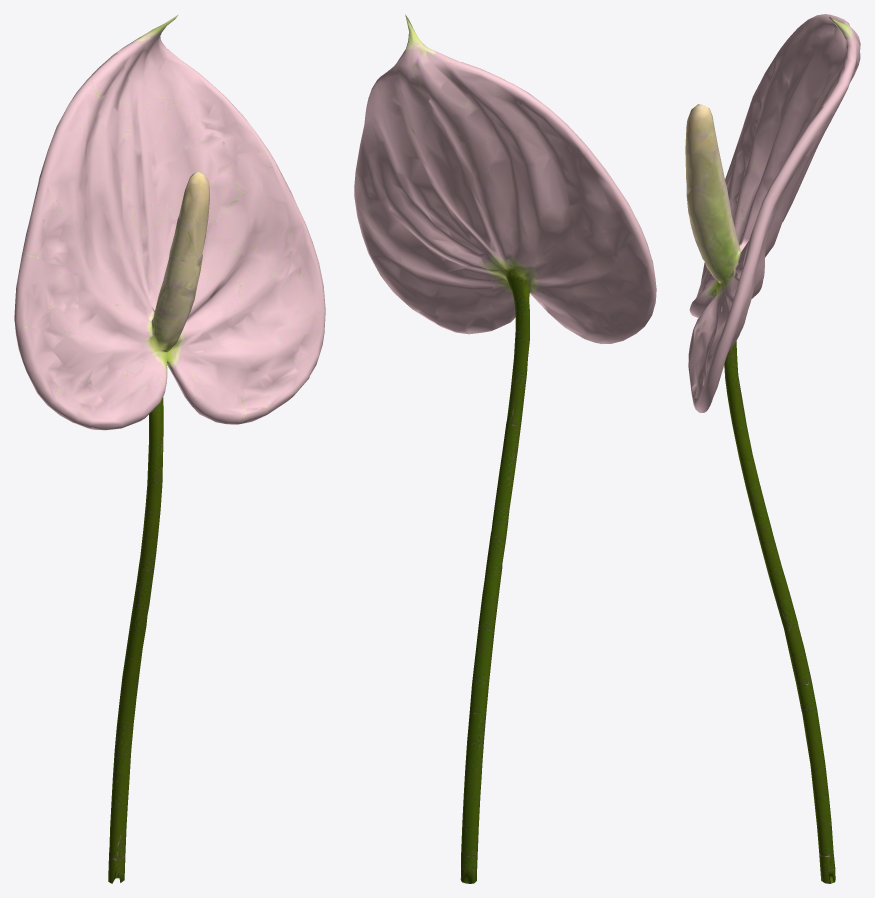
Rendered from pink.glb.
3 views of the same model, side by side, from view 1: azimuth 30°, elevation 25°; view 2: azimuth 150°, elevation 25°; view 3: azimuth 270°, elevation 25° (orthographic). The views are drawn at different scales.
Bounding box in the file's own units: 0.702 × 1.9 × 0.3364.
Materials: 1 (1 with a texture image).
